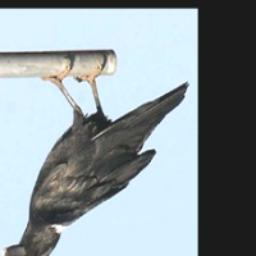Crow: (2, 54, 189, 256)
